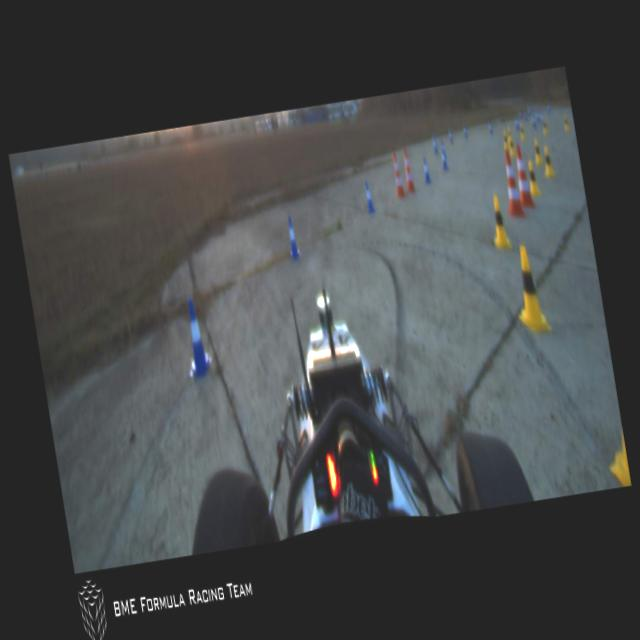blue_cone: (178, 296, 214, 378), (285, 215, 300, 257), (364, 181, 376, 213), (422, 158, 432, 182), (440, 149, 450, 170), (441, 140, 447, 158), (432, 136, 438, 152), (462, 124, 468, 138), (448, 129, 453, 142), (488, 122, 493, 134)
large_orange_cone: (499, 147, 525, 218), (512, 142, 536, 208), (389, 150, 406, 197), (401, 146, 416, 192)
yellow_cone: (508, 244, 552, 335), (488, 194, 512, 248), (526, 159, 541, 197), (540, 145, 555, 177), (532, 138, 542, 164), (506, 134, 516, 156), (562, 112, 570, 132), (518, 123, 526, 141), (540, 118, 548, 136), (502, 130, 508, 150)
